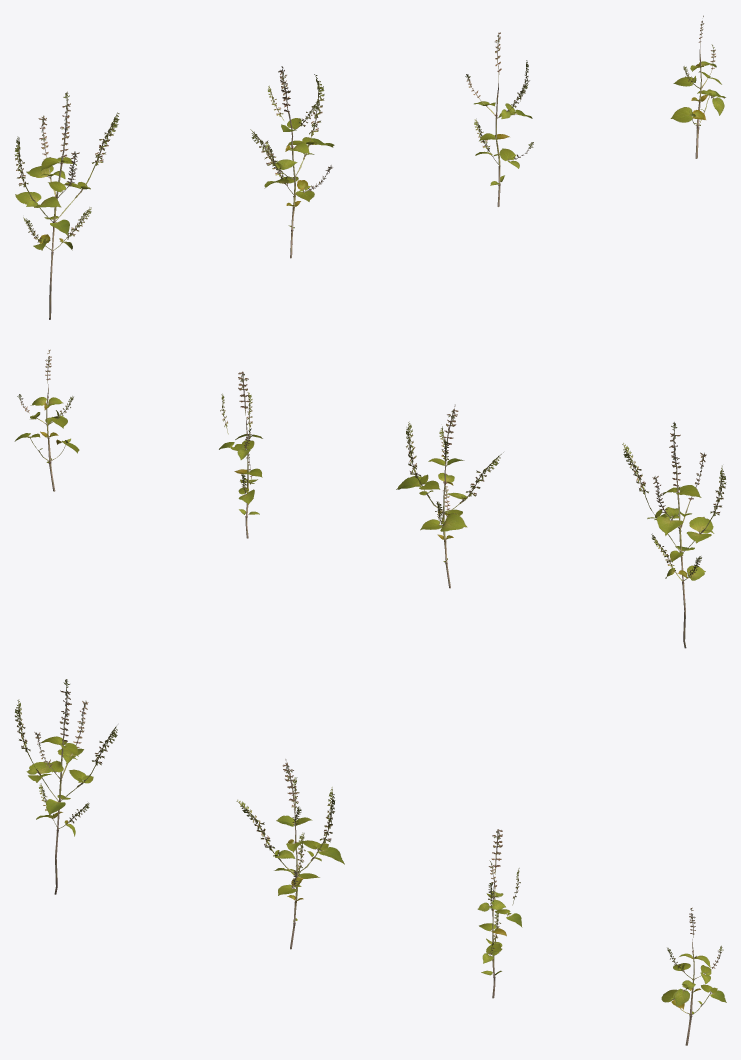
The model's file is shrub_b.glb.
The picture shows the model from 3 angles, top to bottom: view 1: azimuth 30°, elevation 25°; view 2: azimuth 150°, elevation 25°; view 3: azimuth 330°, elevation 25°; orthographic projection. The views are drawn at different scales.
Parts seen in each view (by area): view 1: shrub_03_a; view 2: shrub_03_a; view 3: shrub_03_a.
Part boxes in pixels (<box>): shrub_03_a: <box>14,15,725,319</box>; shrub_03_a: <box>14,349,726,648</box>; shrub_03_a: <box>15,679,726,1045</box>.
Size of the model in its own units: 1.37 by 0.4139 by 0.1538.
1 material, 1 textured.
